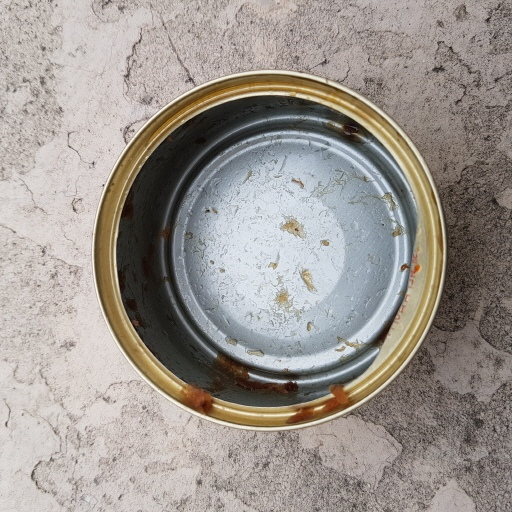Metal_1: (89, 68, 447, 430)
